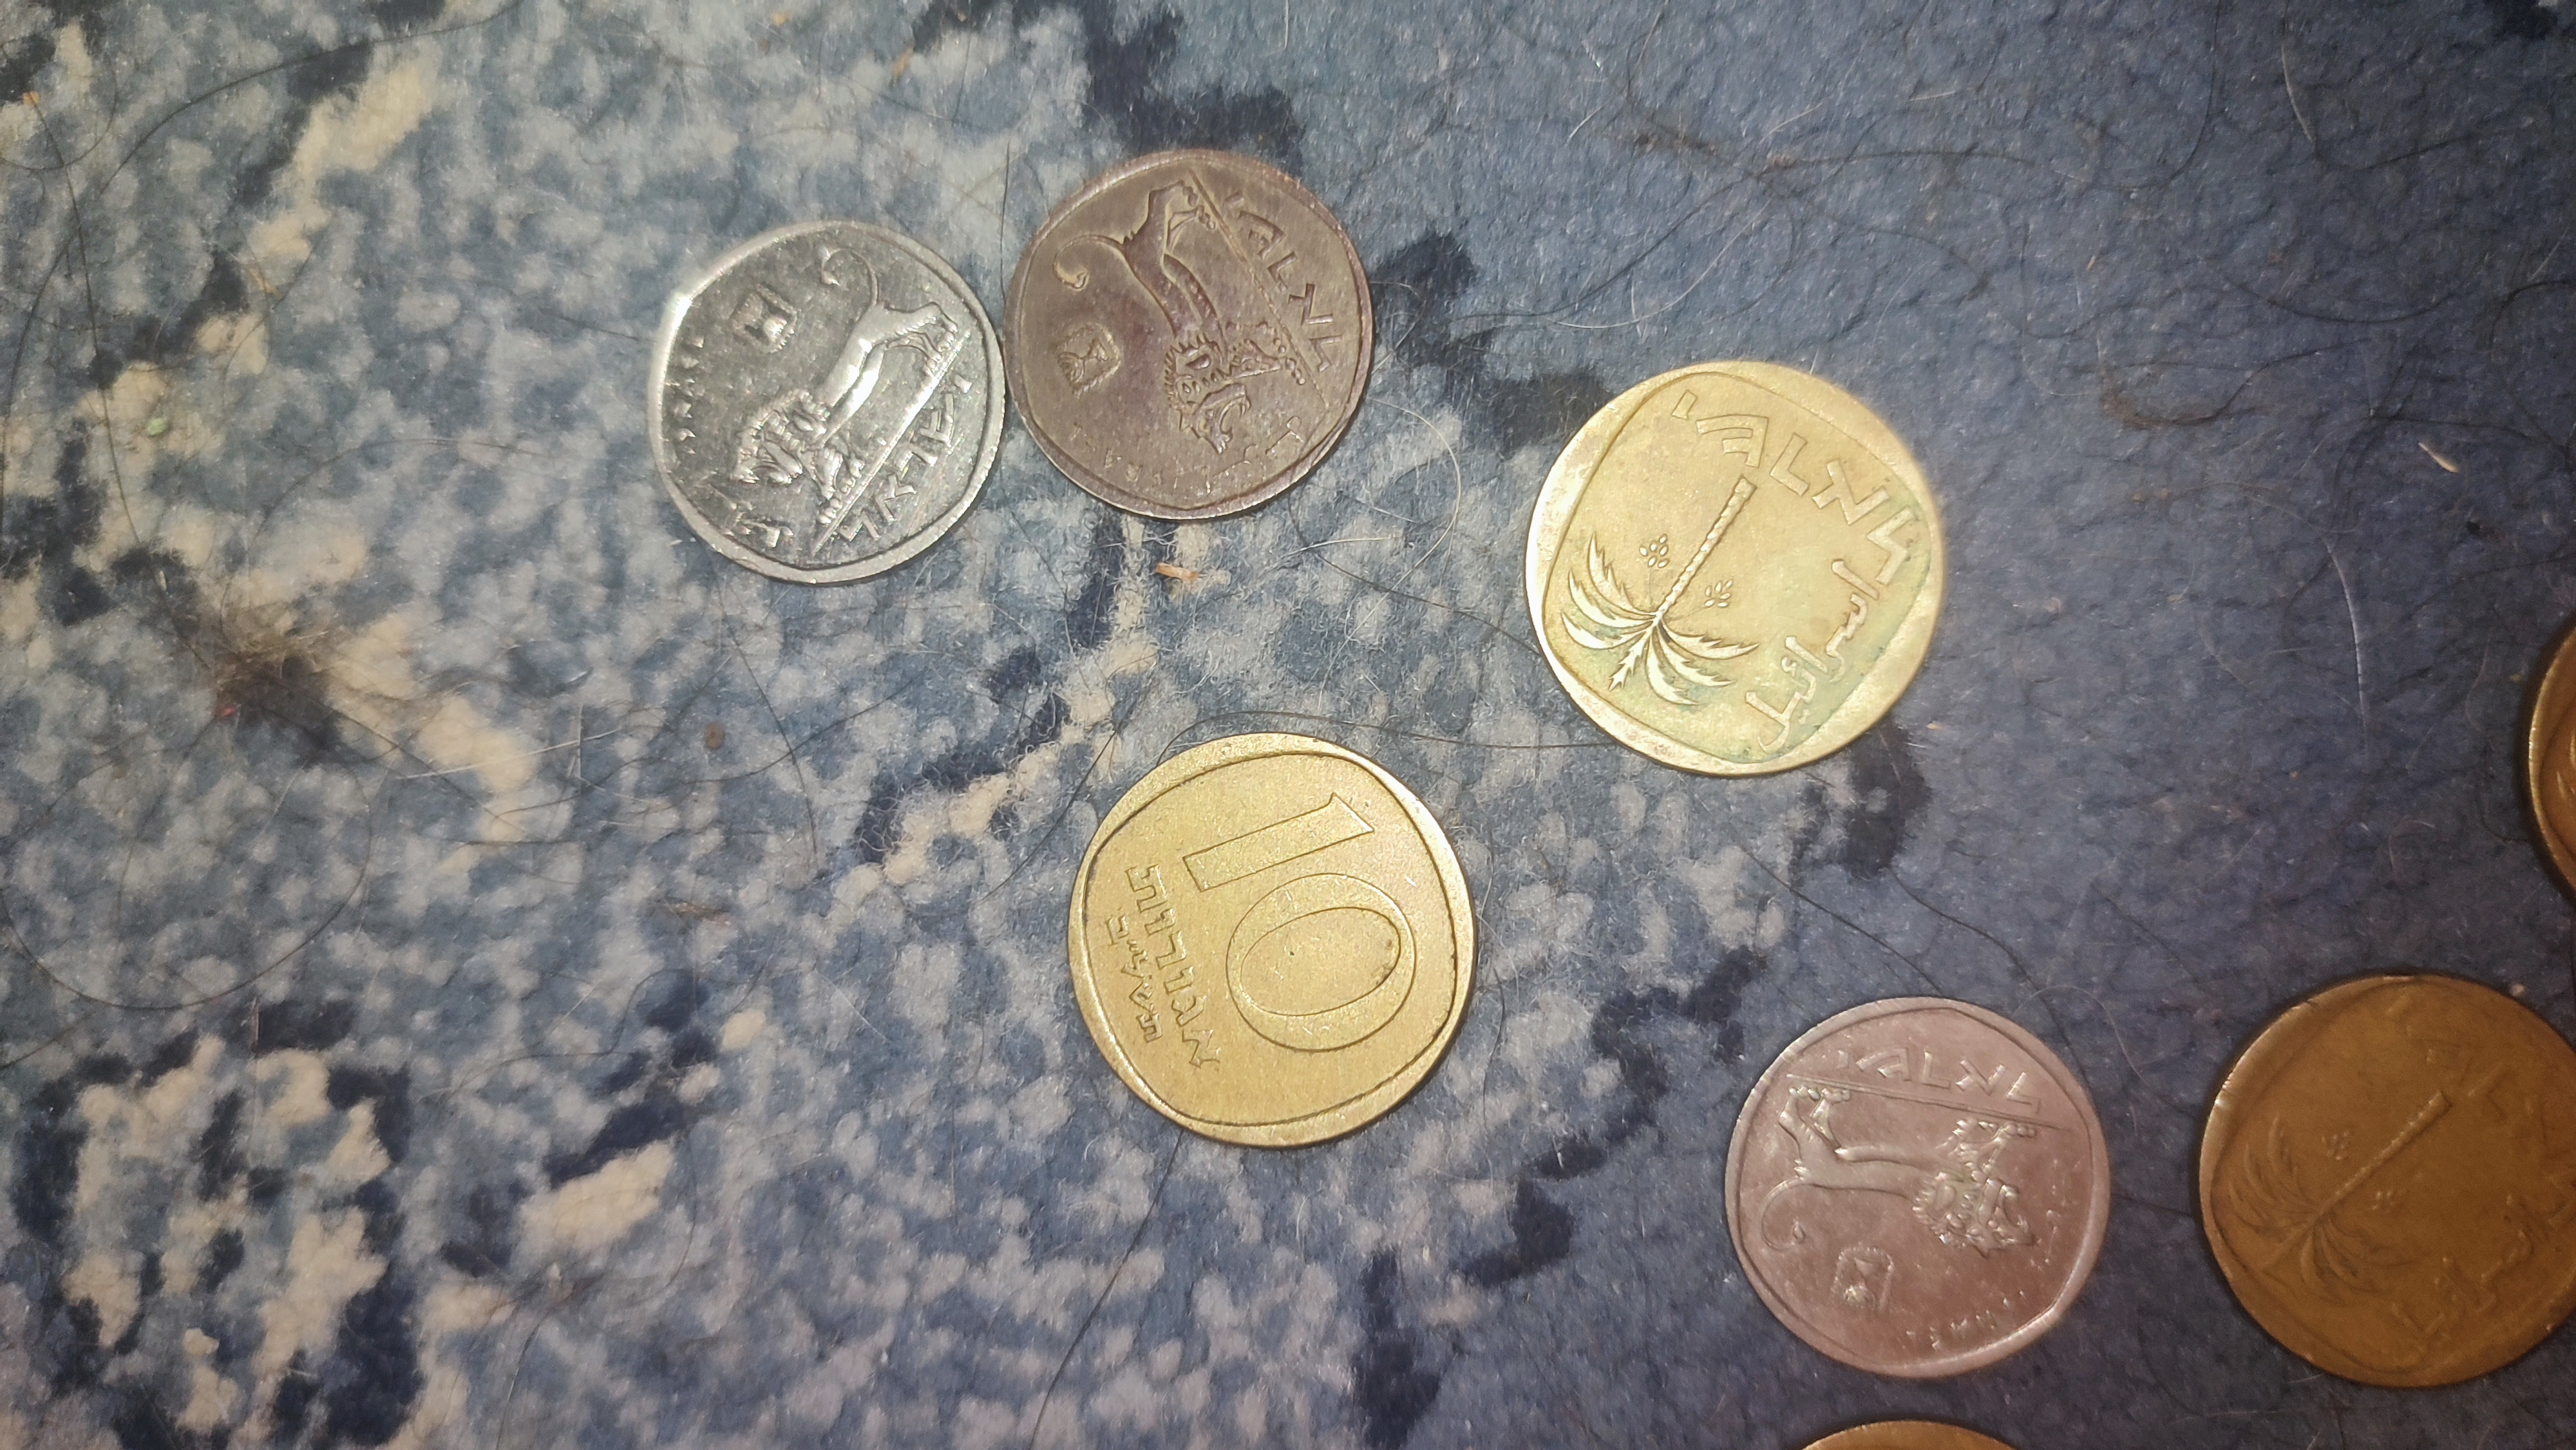1/2 old sheqel: (1718, 990, 2121, 1388), (1003, 145, 1378, 530), (637, 216, 1010, 589)
10 old agora brown: (1049, 723, 1499, 1164), (1516, 350, 1951, 796), (2181, 953, 2576, 1402)
